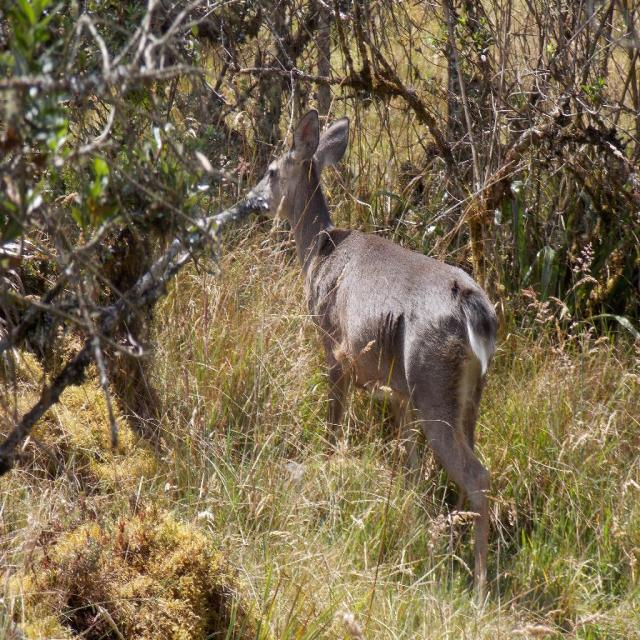Deer: (244, 108, 499, 601)
